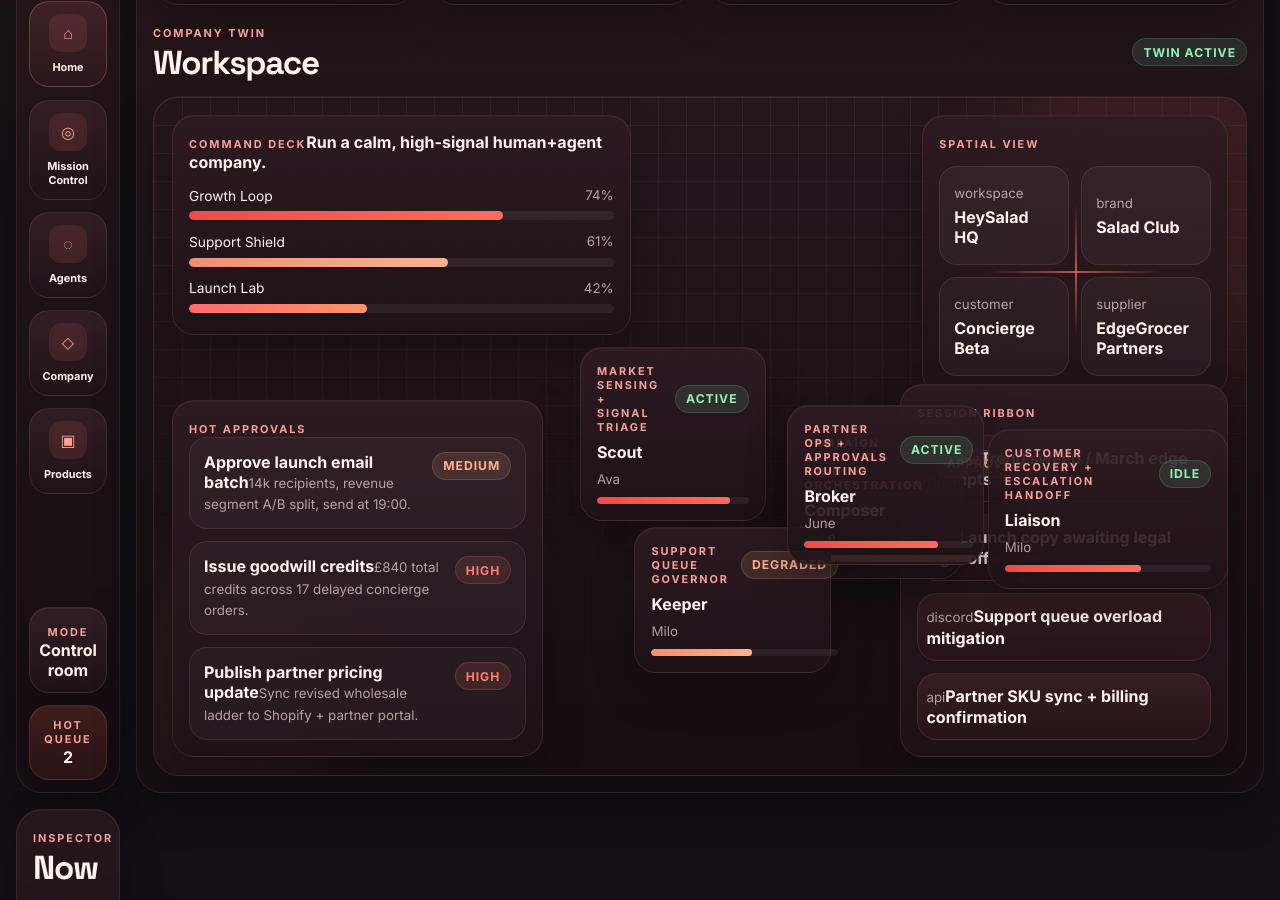
it: HeySalad web app › navigates to products and shows initiative cards
(page scrolled)
Click the link "▣ Products" at coordinates (68, 451), box [29,408,107,494]
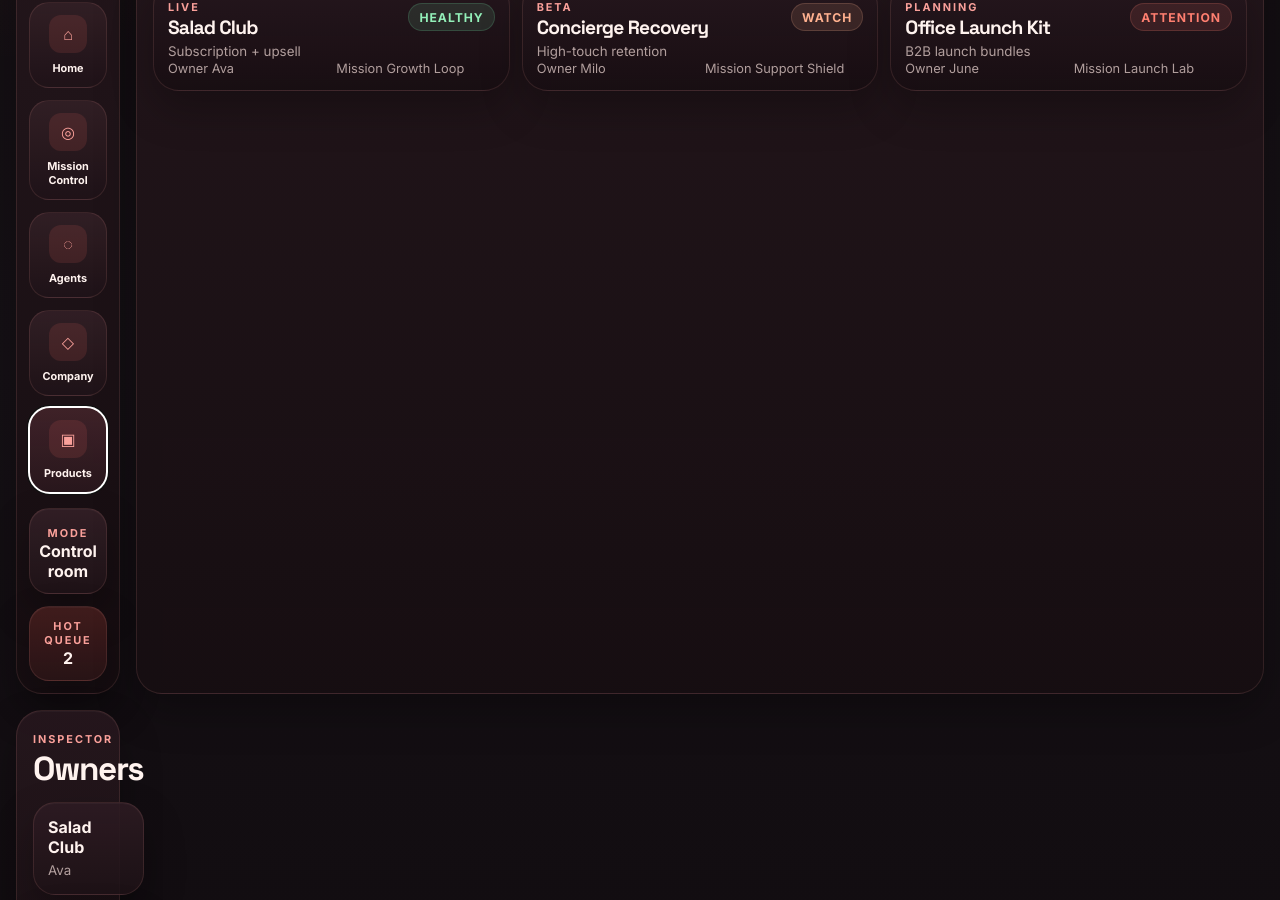
Expected: the heading "Salad Club" is shown, [168,15,258,40]
Expected: the text "Owner Ava" is shown, [168,61,234,76]
